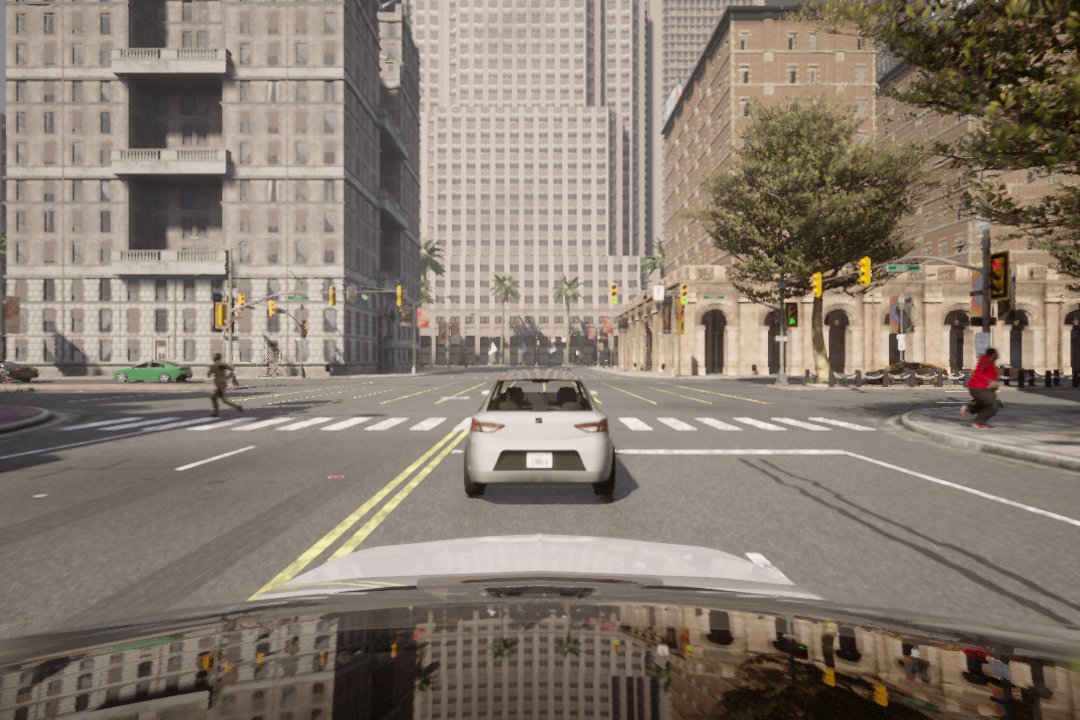TrafficLight: (987, 255, 1007, 300), (854, 256, 873, 291), (809, 270, 822, 298), (679, 283, 690, 307), (609, 282, 620, 304)
walkside: (59, 407, 877, 439)
